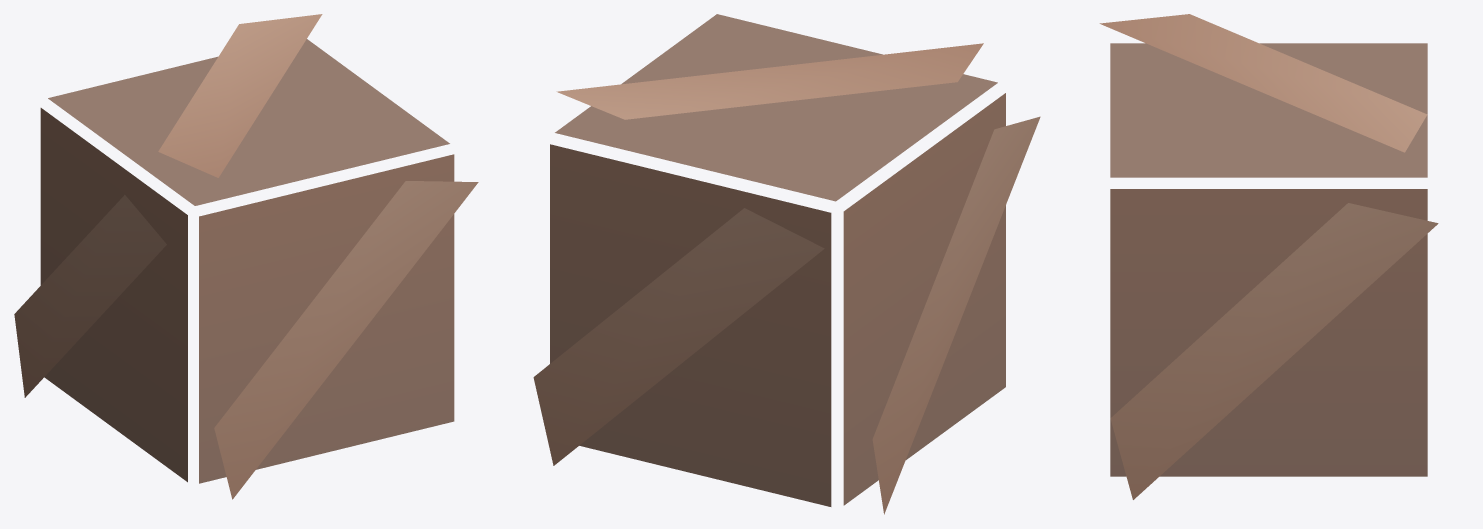
Rendered from crate.glb.
3 views of the same model, side by side, from view 1: azimuth 30°, elevation 25°; view 2: azimuth 150°, elevation 25°; view 3: azimuth 270°, elevation 25° (orthographic). The views are drawn at different scales.
Parts seen in each view (by area): view 1: crate; view 2: crate; view 3: crate.
Boxes of the visible parts, x1,y1,x2,y2 form: crate: (14, 14, 478, 499); crate: (533, 14, 1040, 514); crate: (1099, 14, 1438, 499).
Bounding box in the file's own units: 0.43 × 0.43 × 0.43.
